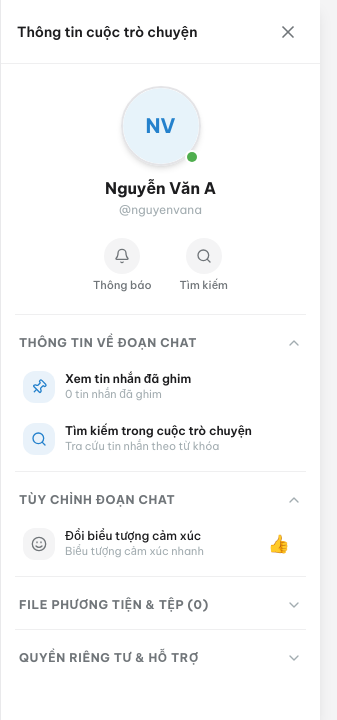
Test: ChatDetailDrawer Component Tests › renders direct conversation details with online status, mute button, search, and privacy block button
This screenshot has width=337, height=720.
expect the heading "Nguyễn Văn A" is shown: met, box [97, 176, 224, 200]
expect the element titled "Đang trực tuyến" is shown: met, box [186, 152, 196, 162]
// Expand privacy section and verify block user button exists
What coordinates should you click on to do the following:
click the button with test id "accordion-privacy"
I would click on:
 (160, 658)
Its box is [15, 642, 306, 674].
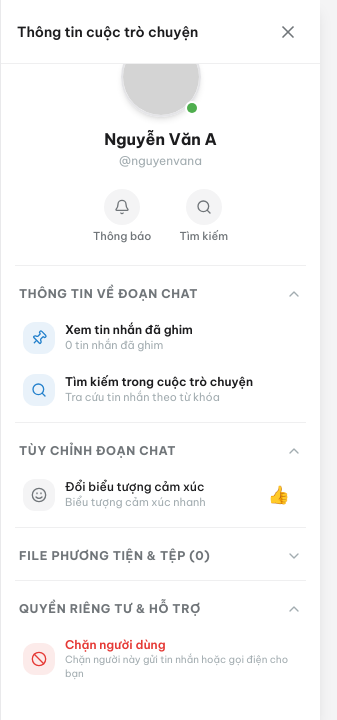
expect the button with test id "block-user-button" is shown: met, box [15, 629, 306, 690]
